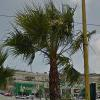Palm tree: (19, 4, 82, 94)
